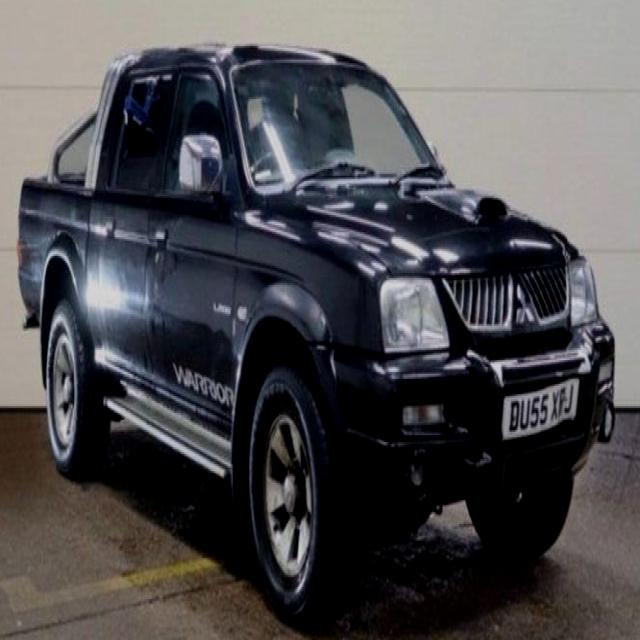CMT: (14, 42, 612, 631)
